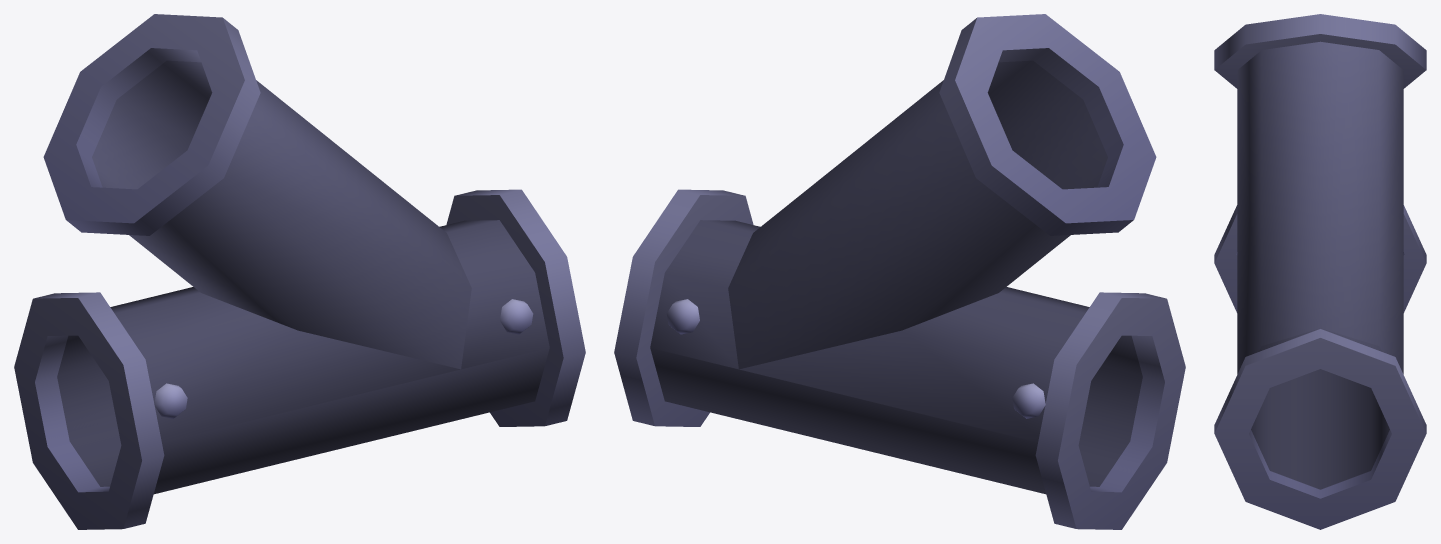
File: pipe_large_junction.glb
3 renders of one model, left to right at view 1: azimuth 30°, elevation 25°; view 2: azimuth 150°, elevation 25°; view 3: azimuth 270°, elevation 25°, orthographic. The views are drawn at different scales.
Visible parts, largest first — view 1: pipe-large-junction; view 2: pipe-large-junction; view 3: pipe-large-junction.
Boxes of the visible parts, bbox=[...] form: pipe-large-junction: bbox=[14, 14, 585, 529]; pipe-large-junction: bbox=[614, 14, 1185, 529]; pipe-large-junction: bbox=[1214, 14, 1426, 529].
Bounding box in the file's own units: 2.06 × 2.06 × 1.
1 material, 1 textured.
